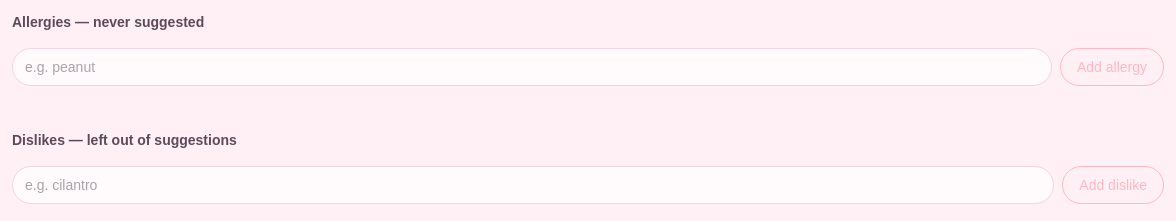
CookingExclusions (#500) › a failed save surfaces an error and rolls back the optimistic add
Step 1. Type "peanut" into the dropdown named "Add an allergy" → (532, 67), box [12, 48, 1052, 86]
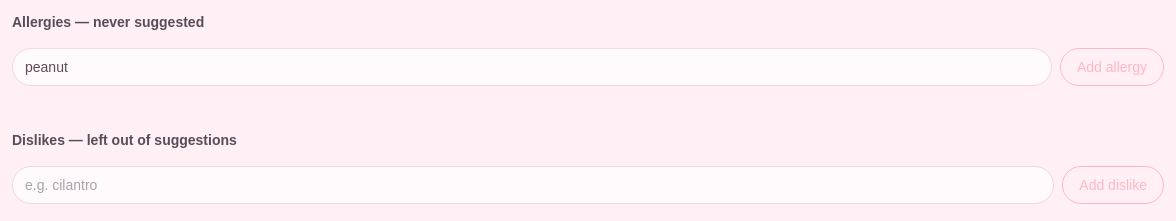
Step 2. Submit the form named "Add an allergy", box [12, 48, 1164, 86]
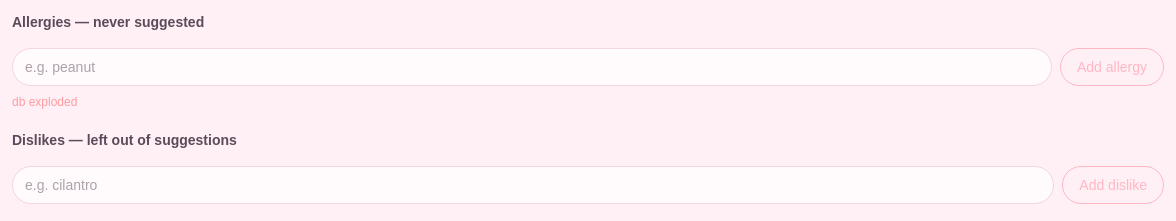
Check: the text "db exploded" is shown, box [12, 95, 77, 109]
